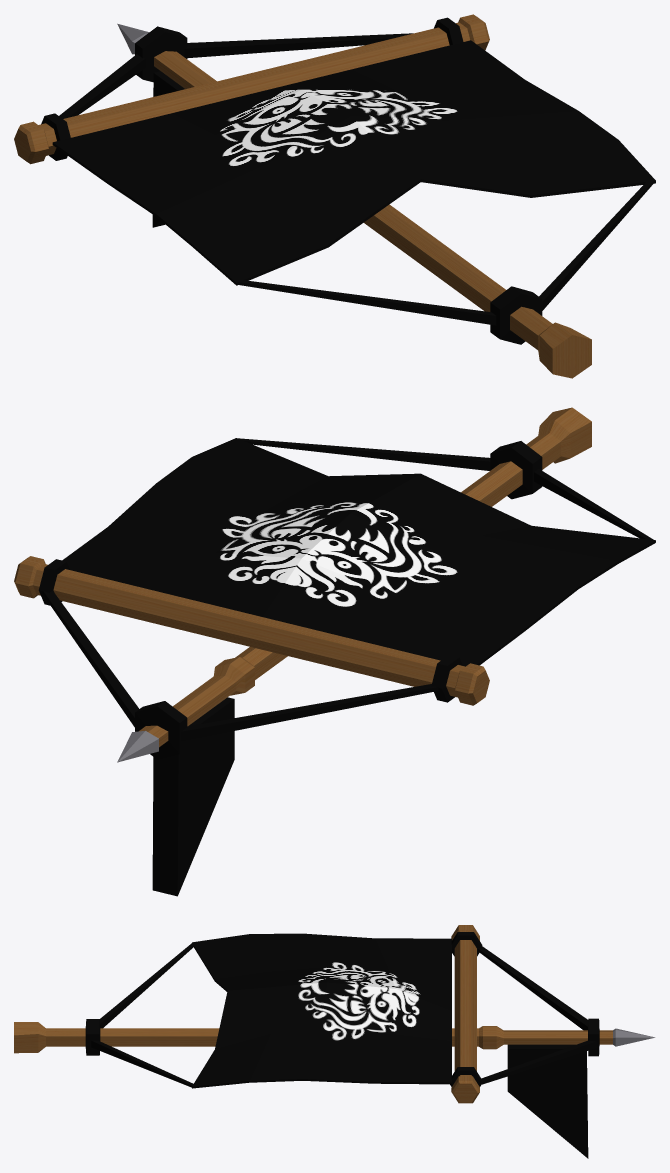
The model's file is sail_b_4.fbx.
The picture shows the model from 3 angles, top to bottom: view 1: azimuth 30°, elevation 25°; view 2: azimuth 150°, elevation 25°; view 3: azimuth 270°, elevation 25°; orthographic projection. The views are drawn at different scales.
Parts seen in each view (by area): view 1: Cube.090; view 2: Cube.090; view 3: Cube.090.
Boxes of the visible parts, x1,y1,x2,y2 form: Cube.090: [14, 14, 655, 378]; Cube.090: [14, 407, 655, 896]; Cube.090: [14, 925, 655, 1158].
Bounding box in the file's own units: 117 × 59.58 × 201.
